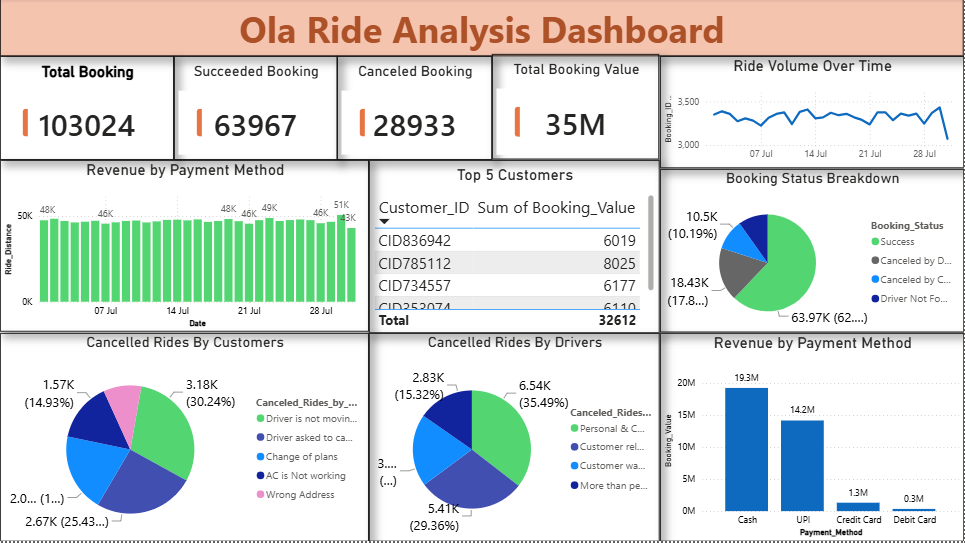

The page's visual inventory and layout, read from the dashboard file:
{"tool":"powerbi","page":{"name":"Dashboard","canvas":[1280,720],"ordinal":5},"visuals":[{"type":"textbox","box":[0,0,1280.5,76.1],"z":0},{"type":"cardVisual","title":"Total Booking","fields":{"Data":["Count(Bookings.Booking_ID)"]},"box":[0,76.1,231.2,137.6],"z":1},{"type":"cardVisual","title":"Succeeded Booking","fields":{"Data":["Count(Bookings.Booking_ID)"]},"box":[231.2,76.1,216.6,137.6],"z":2},{"type":"cardVisual","title":"Canceled Booking","fields":{"Data":["Count(Bookings.Booking_ID)"]},"box":[447.8,76.1,206.3,137.6],"z":3},{"type":"pieChart","title":"Cancelled Rides By Drivers","fields":{"Category":["Bookings.Canceled_Rides_by_Driver"],"Y":["CountNonNull(Bookings.Canceled_Rides_by_Driver)"]},"box":[490.2,443.4,386.3,276.6],"z":4},{"type":"pieChart","title":"Cancelled Rides By Customers","fields":{"Category":["Bookings.Canceled_Rides_by_Customer"],"Y":["CountNonNull(Bookings.Canceled_Rides_by_Customer)"]},"box":[0,443.4,490.2,276.6],"z":5},{"type":"cardVisual","title":"Total Booking Value","fields":{"Data":["Sum(Bookings.Booking_Value)"]},"box":[654.1,73.2,222.4,140.5],"z":6},{"type":"columnChart","title":"Revenue by Payment Method","fields":{"Y":["Sum(Bookings.Booking_Value)"],"Category":["Bookings.Payment_Method"]},"box":[876.6,443.4,403.9,276.6],"z":7},{"type":"tableEx","title":"Top 5 Customers ","fields":{"Values":["Bookings.Customer_ID","Sum(Bookings.Booking_Value)"]},"box":[490.2,213.7,386.3,229.8],"z":8},{"type":"pieChart","title":"Booking Status Breakdown","fields":{"Category":["Bookings.Booking_Status"],"Y":["CountNonNull(Bookings.Booking_Status)"]},"box":[876.6,225.4,403.9,216.6],"z":9},{"type":"lineChart","title":" Ride Volume Over Time","fields":{"Y":["CountNonNull(Bookings.Booking_ID)"],"Category":["Bookings.Date"]},"box":[876.6,76.1,403.9,149.3],"z":10},{"type":"columnChart","title":"Revenue by Payment Method","fields":{"Y":["Sum(Bookings.Ride_Distance)"],"Category":["Bookings.Date"]},"box":[0,213.7,490.2,228.3],"z":11}]}

Visuals, with their boxes in screenshot pixels (x1, y1, x2, y2), scaled from the page's 1280x720 canvas onto the 965x543 screenshot:
textbox: pyautogui.locateOnScreen(0, 0, 964, 57)
"Total Booking" cardVisual: pyautogui.locateOnScreen(0, 57, 174, 161)
"Succeeded Booking" cardVisual: pyautogui.locateOnScreen(174, 57, 338, 161)
"Canceled Booking" cardVisual: pyautogui.locateOnScreen(338, 57, 493, 161)
"Cancelled Rides By Drivers" pieChart: pyautogui.locateOnScreen(370, 334, 661, 542)
"Cancelled Rides By Customers" pieChart: pyautogui.locateOnScreen(0, 334, 370, 542)
"Total Booking Value" cardVisual: pyautogui.locateOnScreen(493, 55, 661, 161)
"Revenue by Payment Method" columnChart: pyautogui.locateOnScreen(661, 334, 964, 542)
"Top 5 Customers " tableEx: pyautogui.locateOnScreen(370, 161, 661, 334)
"Booking Status Breakdown" pieChart: pyautogui.locateOnScreen(661, 170, 964, 333)
" Ride Volume Over Time" lineChart: pyautogui.locateOnScreen(661, 57, 964, 170)
"Revenue by Payment Method" columnChart: pyautogui.locateOnScreen(0, 161, 370, 333)
